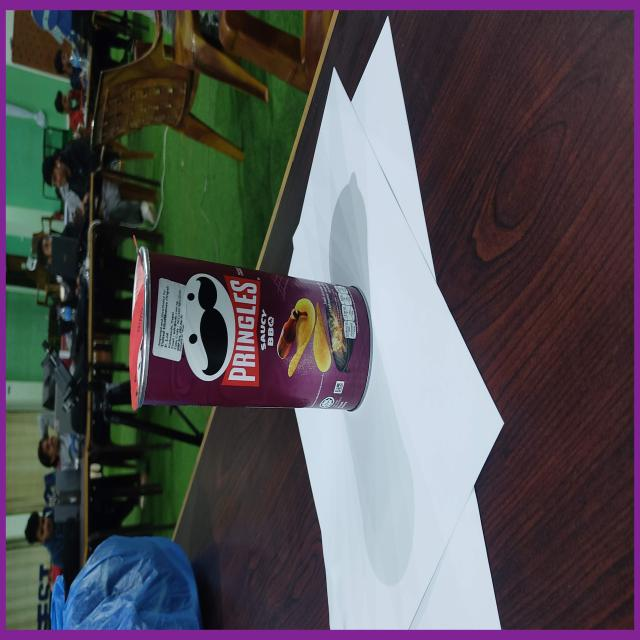Pringles: (128, 239, 373, 412)
